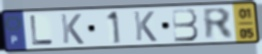1: (105, 10, 123, 45)
B: (170, 7, 201, 43)
K: (132, 10, 159, 43), (59, 13, 86, 45)
L: (28, 15, 55, 47)
R: (201, 7, 236, 42)
